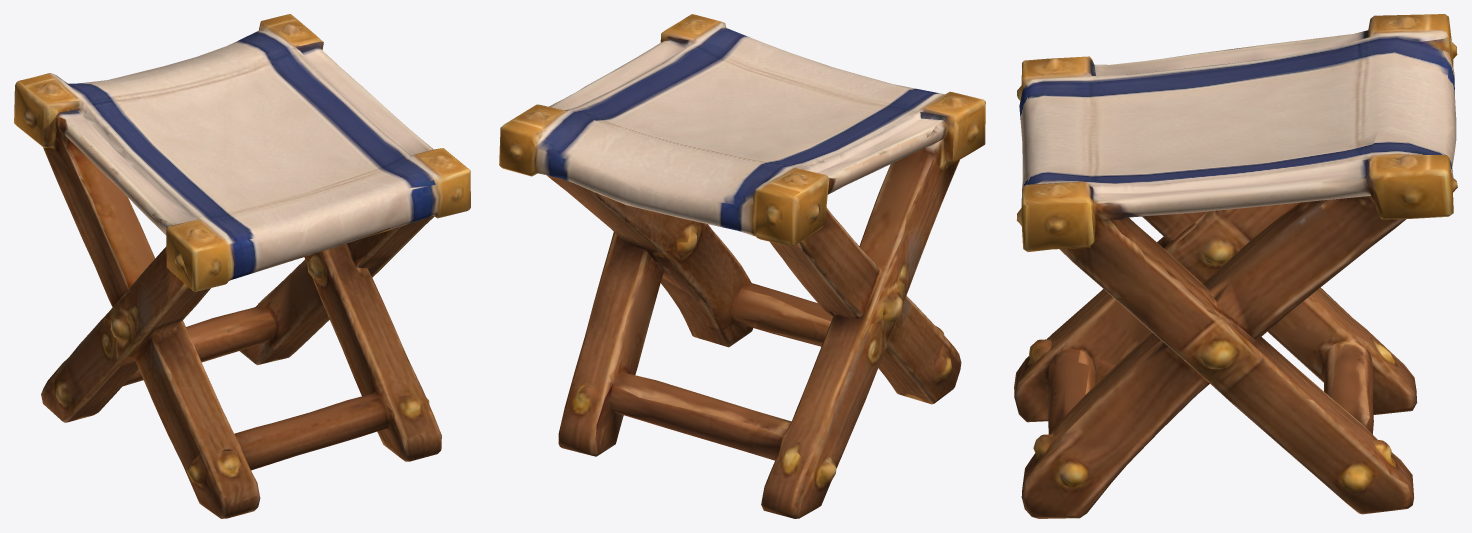
Rendered from camp-stool.glb.
The picture shows the model from 3 angles, left to right: view 1: azimuth 30°, elevation 25°; view 2: azimuth 150°, elevation 25°; view 3: azimuth 270°, elevation 25°; orthographic projection. The views are drawn at different scales.
Parts seen in each view (by area): view 1: camp-stool; view 2: camp-stool; view 3: camp-stool.
Boxes of the visible parts, <box> form: camp-stool: <box>14,14,470,518</box>; camp-stool: <box>499,14,985,518</box>; camp-stool: <box>1014,14,1457,518</box>.
Bounding box in the file's own units: 1.32 × 1.43 × 1.49.
Materials: 1 (1 with a texture image).
